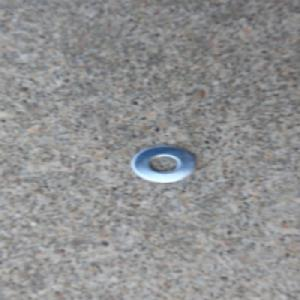Washer: (128, 144, 198, 184)
